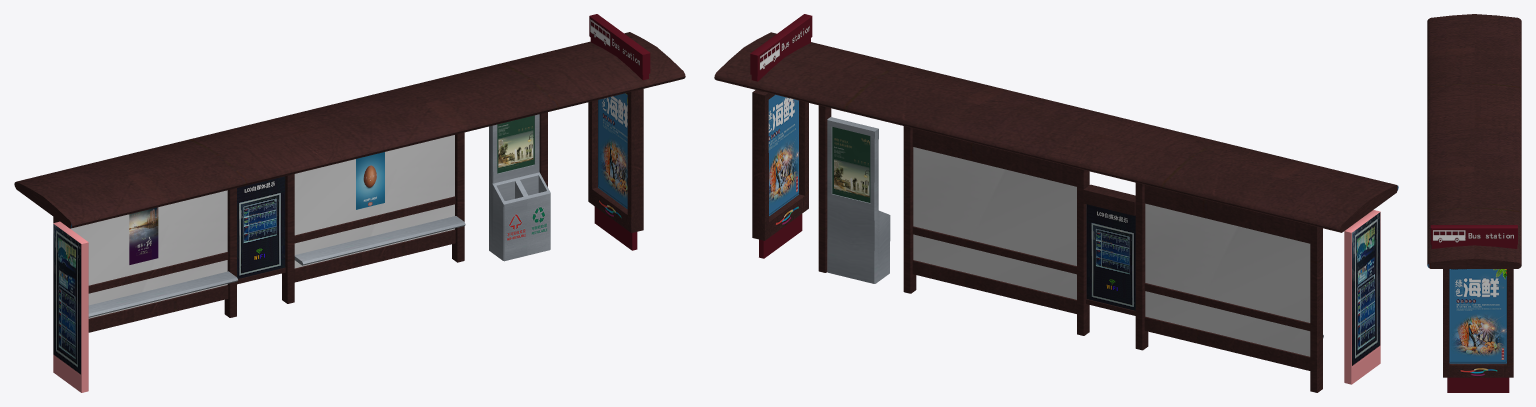
The model's file is SM_Busstop.fbx.
3 views of the same model, side by side, from view 1: azimuth 30°, elevation 25°; view 2: azimuth 150°, elevation 25°; view 3: azimuth 270°, elevation 25° (orthographic). The views are drawn at different scales.
Visible parts, largest first — view 1: SM_ODR_ChangSha_StOb_propxxxx_00000062; view 2: SM_ODR_ChangSha_StOb_propxxxx_00000062; view 3: SM_ODR_ChangSha_StOb_propxxxx_00000062.
Part boxes in pixels (left/top/right/bottom): SM_ODR_ChangSha_StOb_propxxxx_00000062: left=14, top=14, right=685, bottom=392; SM_ODR_ChangSha_StOb_propxxxx_00000062: left=714, top=14, right=1398, bottom=392; SM_ODR_ChangSha_StOb_propxxxx_00000062: left=1427, top=14, right=1521, bottom=392.
Size of the model in its own units: 12.41 by 3.93 by 2.02.
Materials: 1 (1 with a texture image).
